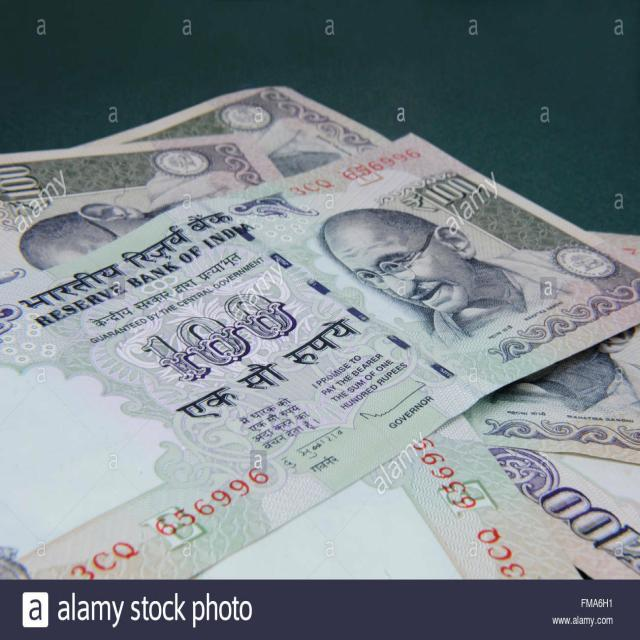100IndianRupees: (0, 134, 635, 576)
